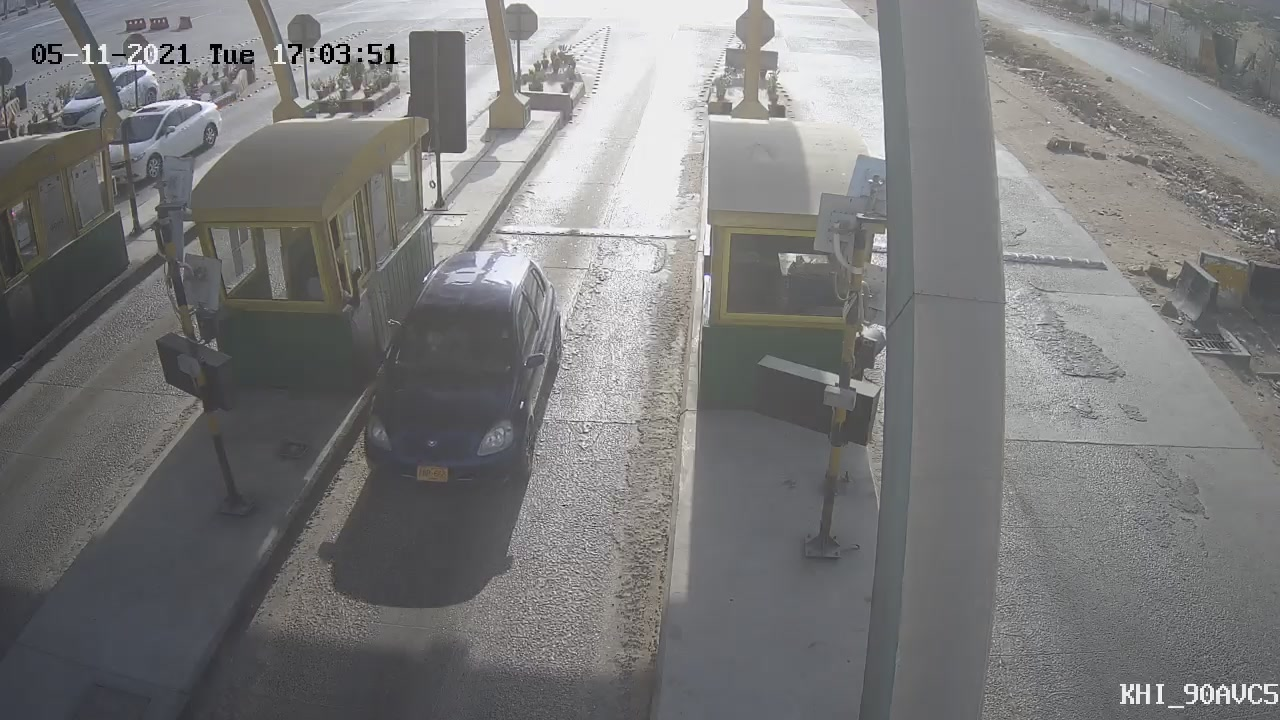F1: (325, 229, 591, 520)
